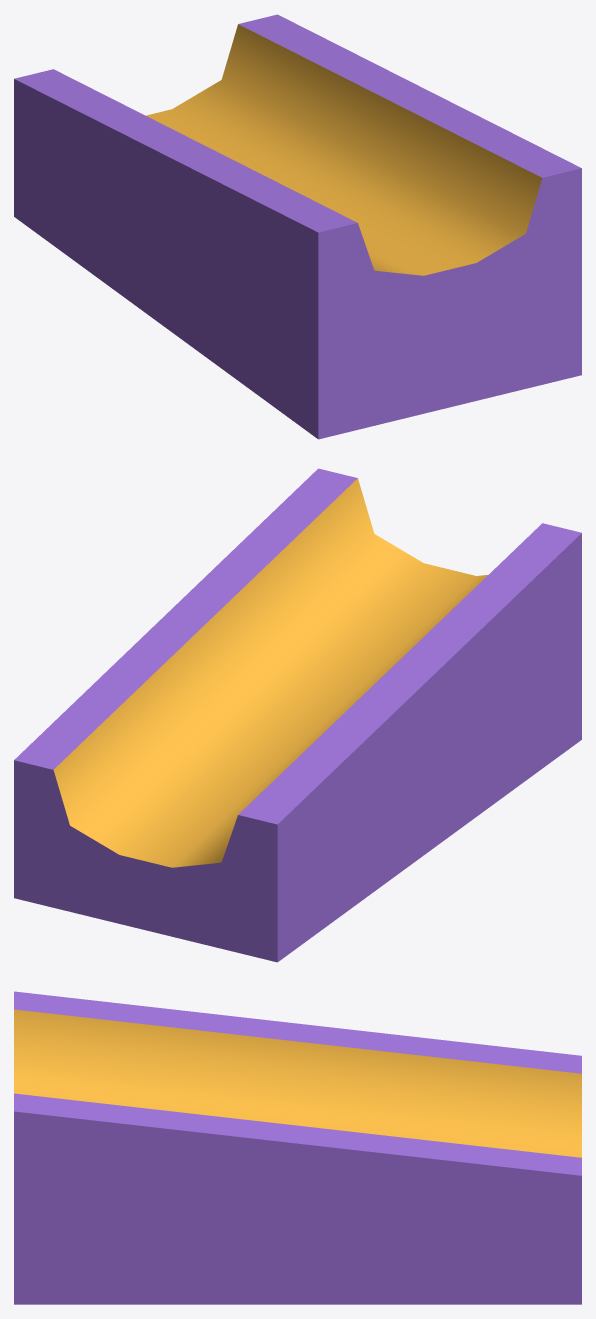
The model's file is kenney-marble-slant-solid-long-a.glb.
3 renders of one model, top to bottom at view 1: azimuth 30°, elevation 25°; view 2: azimuth 150°, elevation 25°; view 3: azimuth 270°, elevation 25°, orthographic. The views are drawn at different scales.
Visible parts, largest first — view 1: slant-solid-long-a; view 2: slant-solid-long-a; view 3: slant-solid-long-a.
Part boxes in pixels (x1,y1,x2,y2): slant-solid-long-a: [14, 14, 581, 439]; slant-solid-long-a: [14, 468, 581, 962]; slant-solid-long-a: [14, 991, 581, 1304].
Bounding box in the file's own units: 1 × 0.7501 × 2.
Materials: 1 (1 with a texture image).
